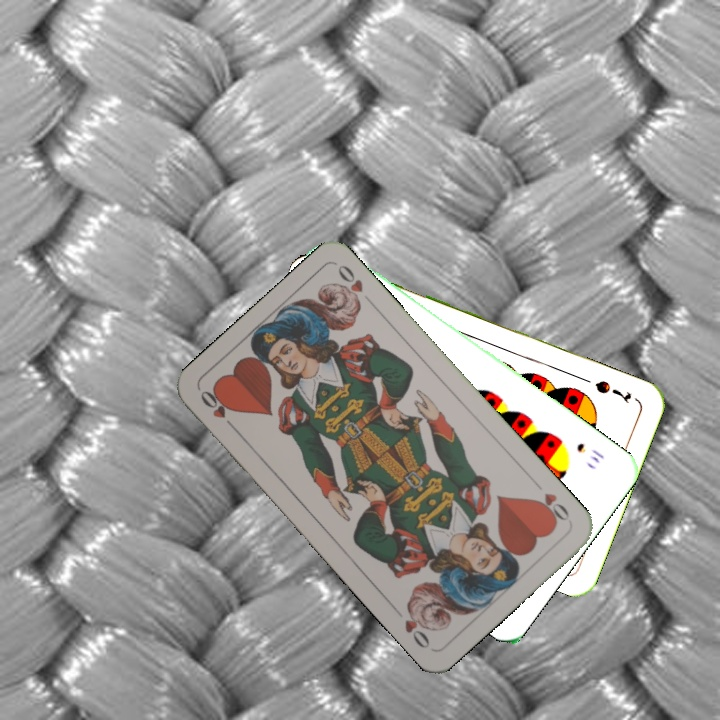HO: (196, 386, 241, 434), (530, 488, 572, 527)
S10: (572, 438, 607, 466)
S7: (591, 376, 634, 407)
